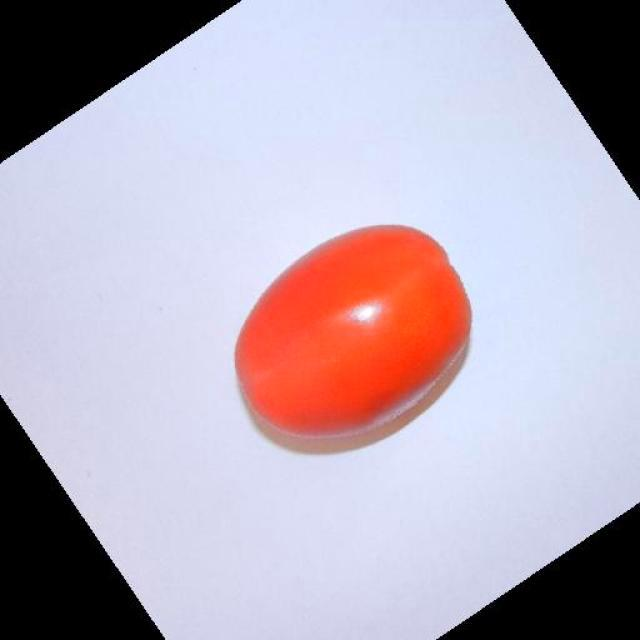tomato: (233, 226, 474, 458)
